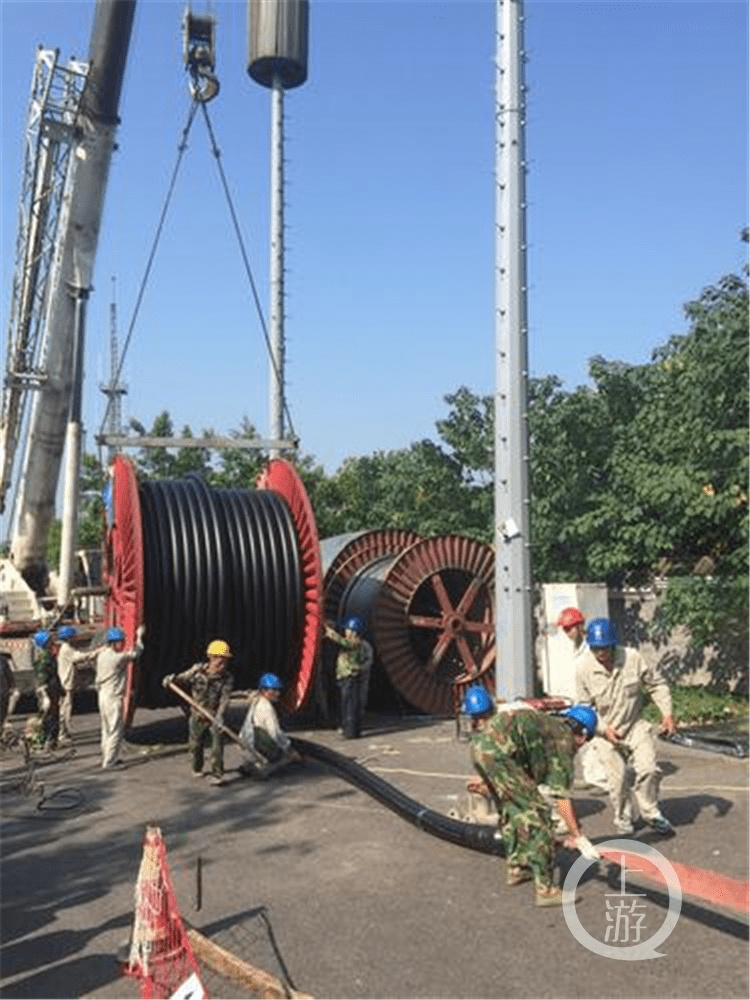blue: (563, 705, 598, 746), (586, 618, 617, 661), (462, 687, 494, 723), (255, 671, 283, 703), (102, 625, 124, 651), (342, 617, 362, 638), (57, 625, 76, 645), (33, 631, 52, 651)
red: (556, 607, 583, 641)
yellow: (202, 636, 233, 670)
